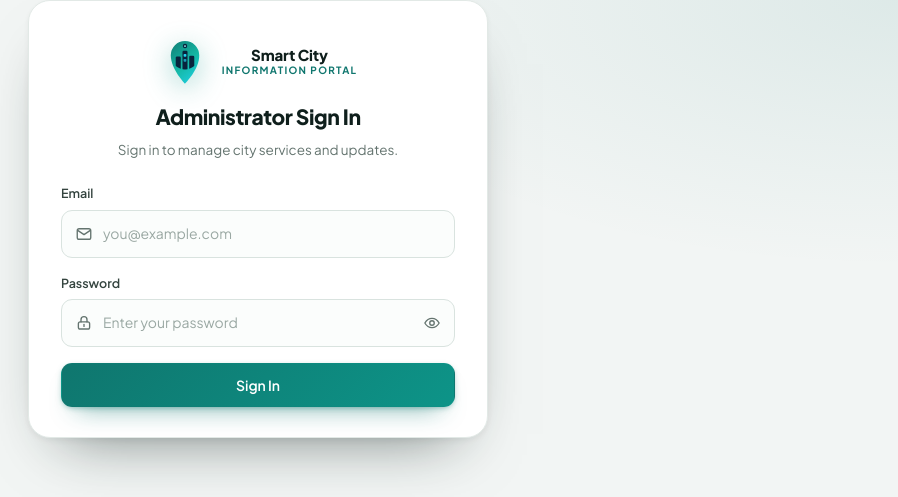
Scenario: AdminLogin › toggles password visibility without changing the value
This screenshot has width=898, height=497.
In the password field labelled "Password": (258, 323) x1=62 y1=300 x2=454 y2=346, type "secret"
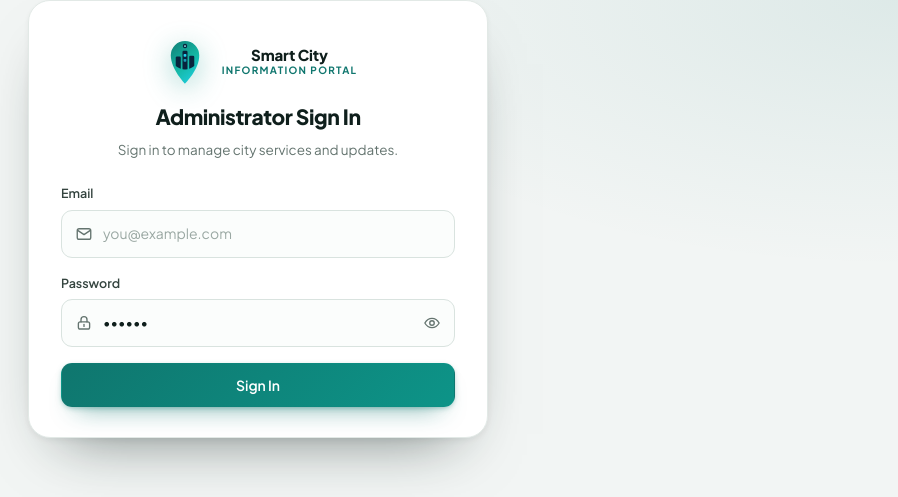
Click the button named "show password": click(432, 323) x1=416 y1=307 x2=448 y2=339
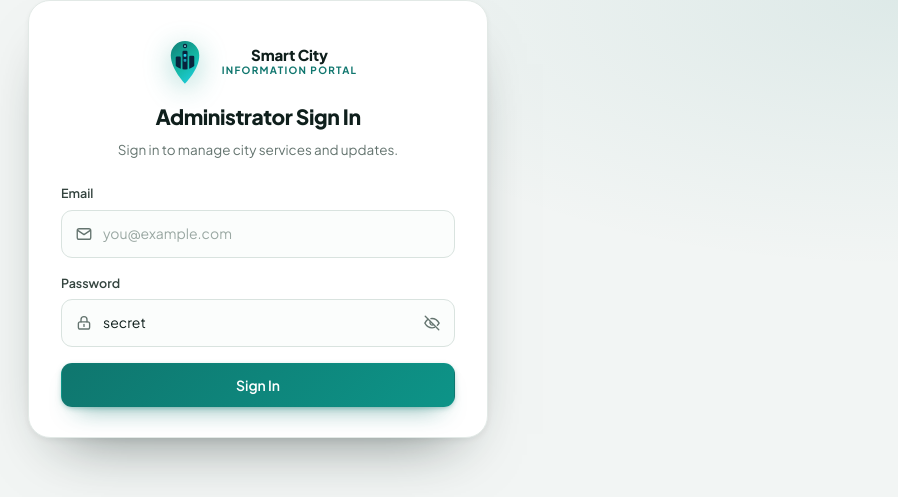
Result: the field labelled "Password" shows its text at x1=62 y1=300 x2=454 y2=346
Click the button named "hide password": click(432, 323) x1=416 y1=307 x2=448 y2=339
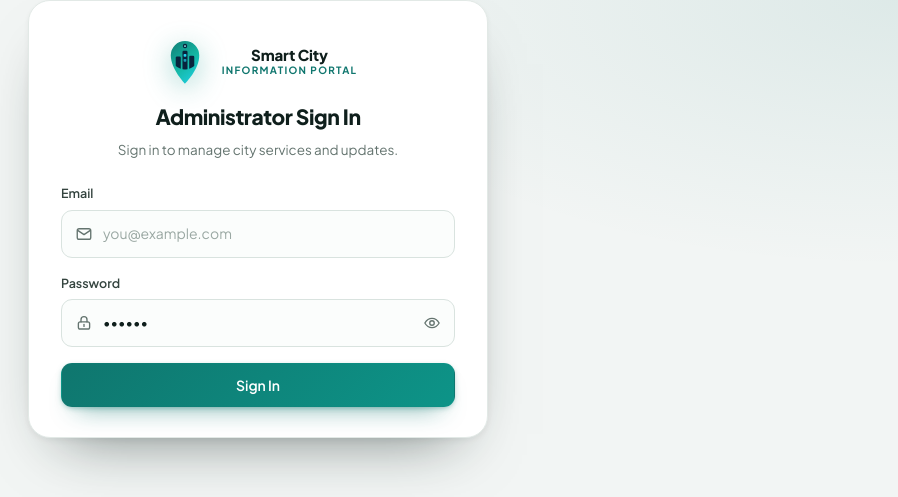
Result: the password field labelled "Password" hides its text at x1=62 y1=300 x2=454 y2=346
